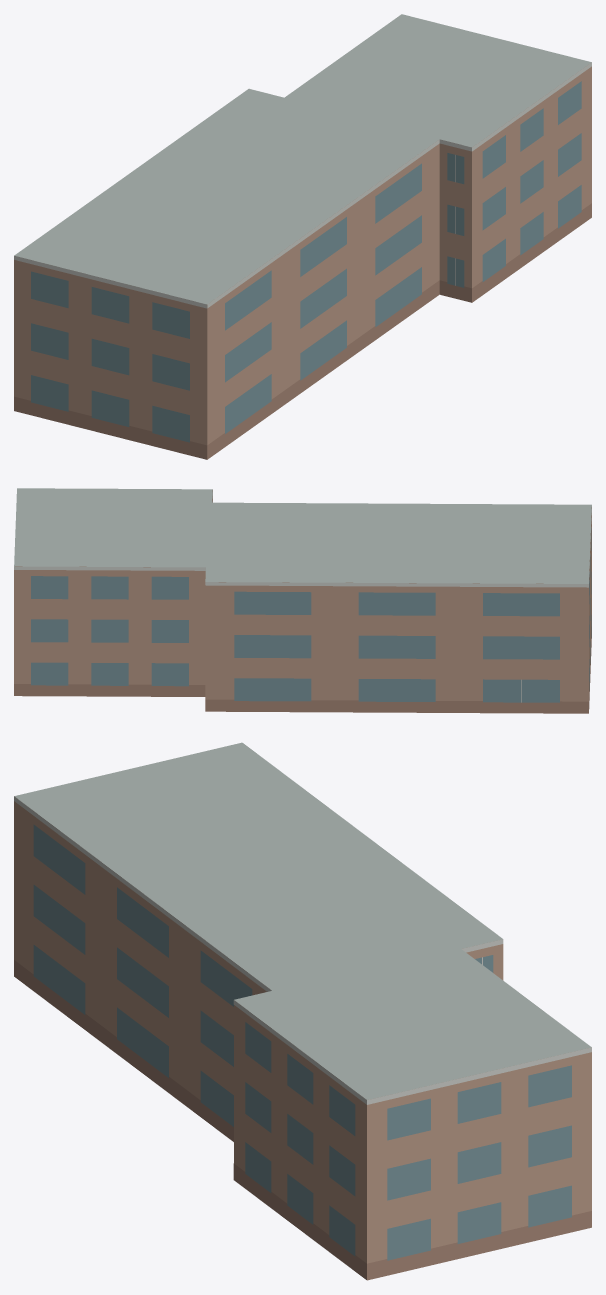
File: survey-upis-32932197.glb
The picture shows the model from 3 angles, top to bottom: view 1: azimuth 30°, elevation 25°; view 2: azimuth 150°, elevation 25°; view 3: azimuth 270°, elevation 25°; orthographic projection. The views are drawn at different scales.
Parts seen in each view (by area): view 1: survey-upis-32932197.tmp; view 2: survey-upis-32932197.tmp; view 3: survey-upis-32932197.tmp.
Boxes of the visible parts, <box> form: survey-upis-32932197.tmp: <box>14,14,591,459</box>; survey-upis-32932197.tmp: <box>14,488,591,713</box>; survey-upis-32932197.tmp: <box>14,742,591,1280</box>.
Bounding box in the file's own units: 38.94 × 9.15 × 26.59.
